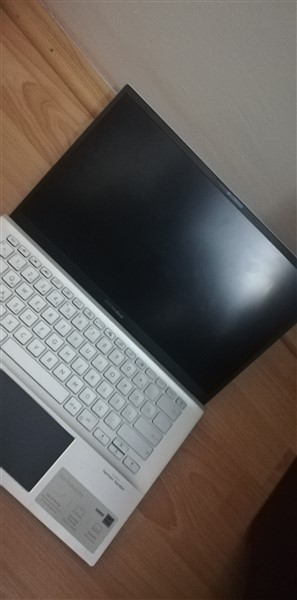laptop: (1, 67, 293, 573)
